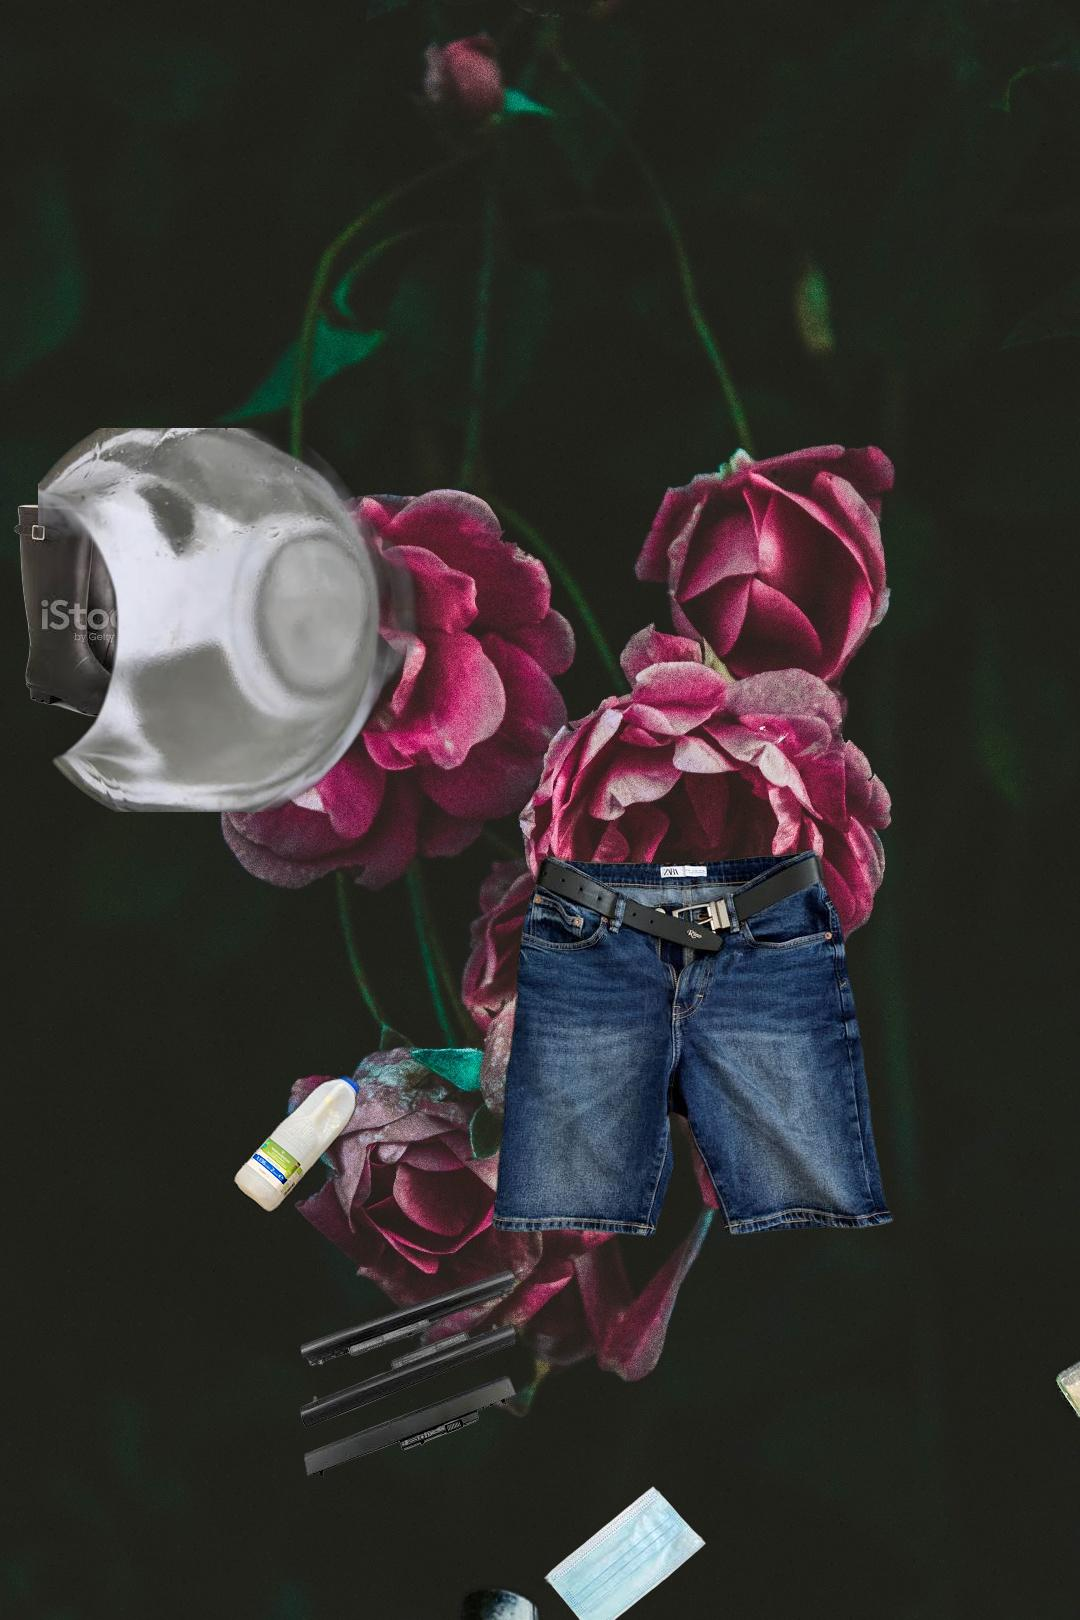battery: (297, 1263, 520, 1481)
clothes: (487, 846, 898, 1240)
glass: (39, 428, 427, 812), (1049, 1287, 1080, 1424)
penholder: (366, 1577, 1063, 1620)
plastic-bottles: (230, 1068, 538, 1534)
shoes: (11, 501, 190, 718)
trash: (507, 1478, 730, 1620)
